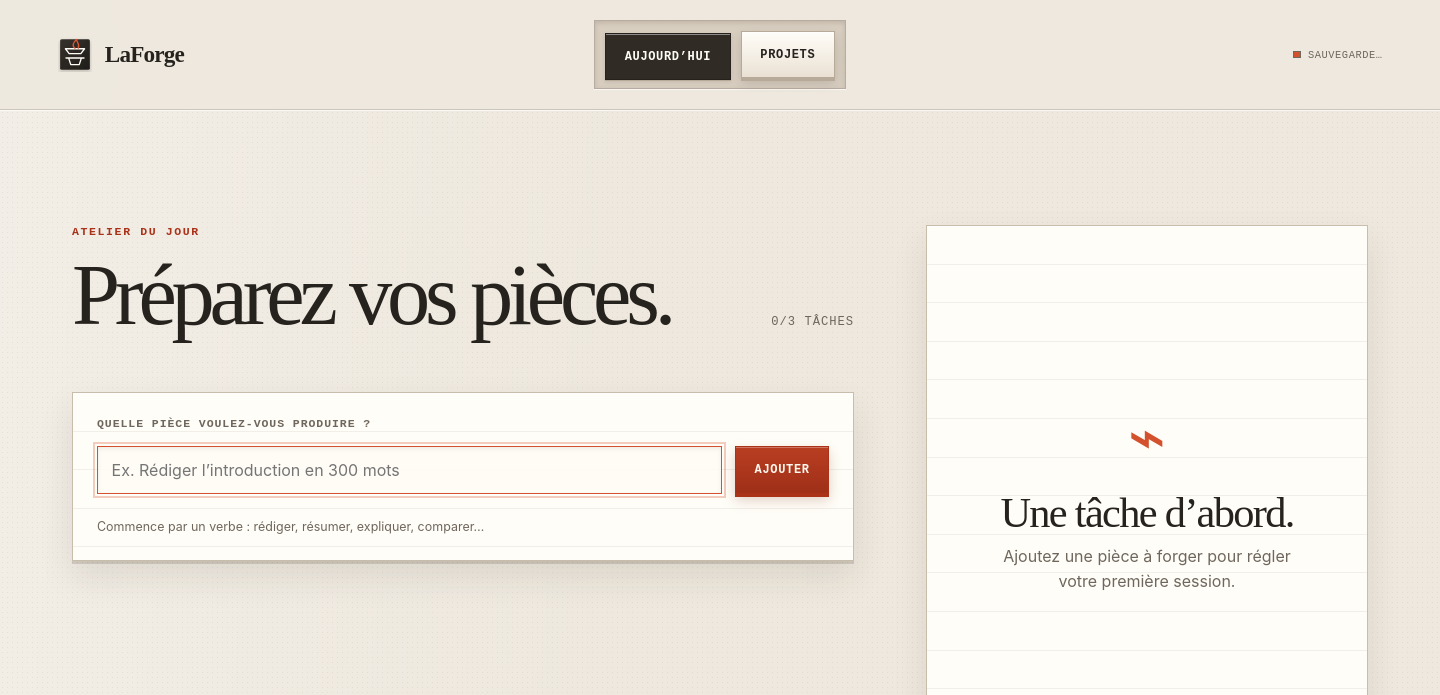
Test case: App › switches to the projects view
The width and height of the screenshot is (1440, 695).
Click the button "Projets" at (788,55), box [741, 31, 835, 78]
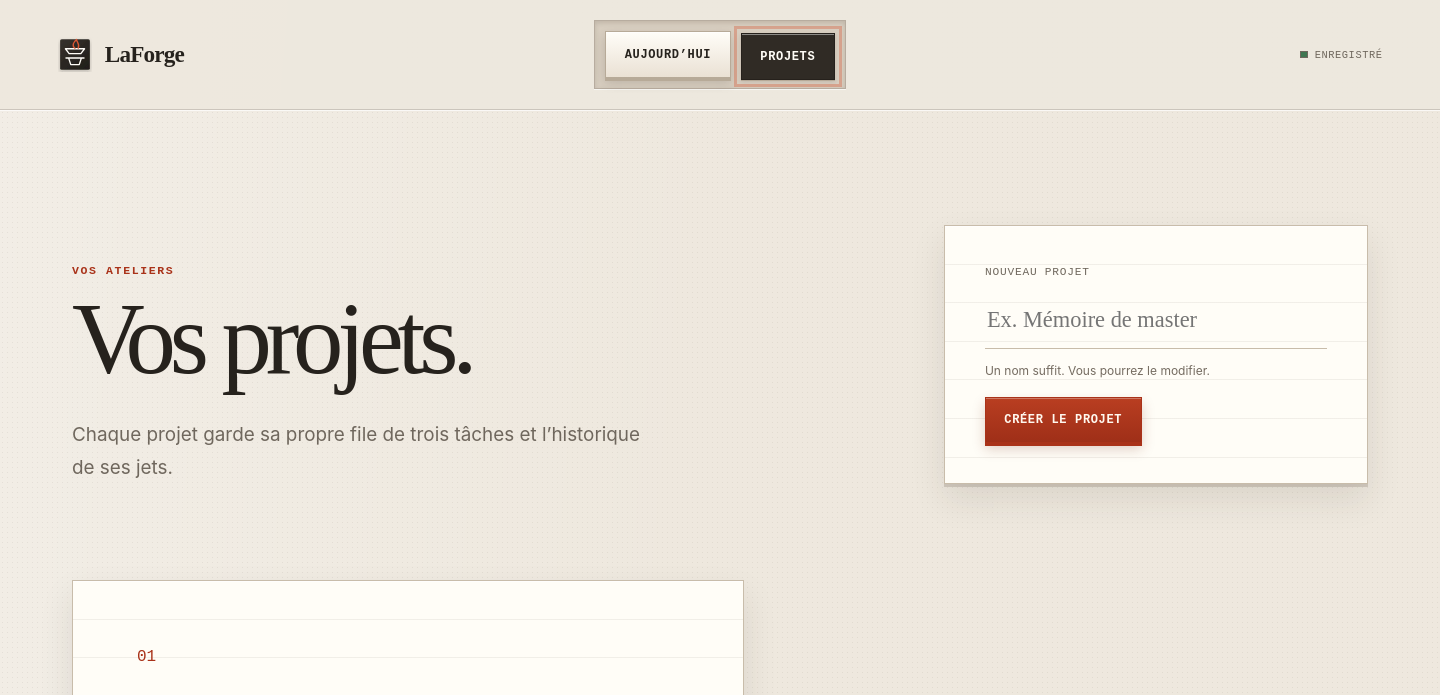
Now the heading "Vos projets." is shown, box [72, 283, 471, 395]
